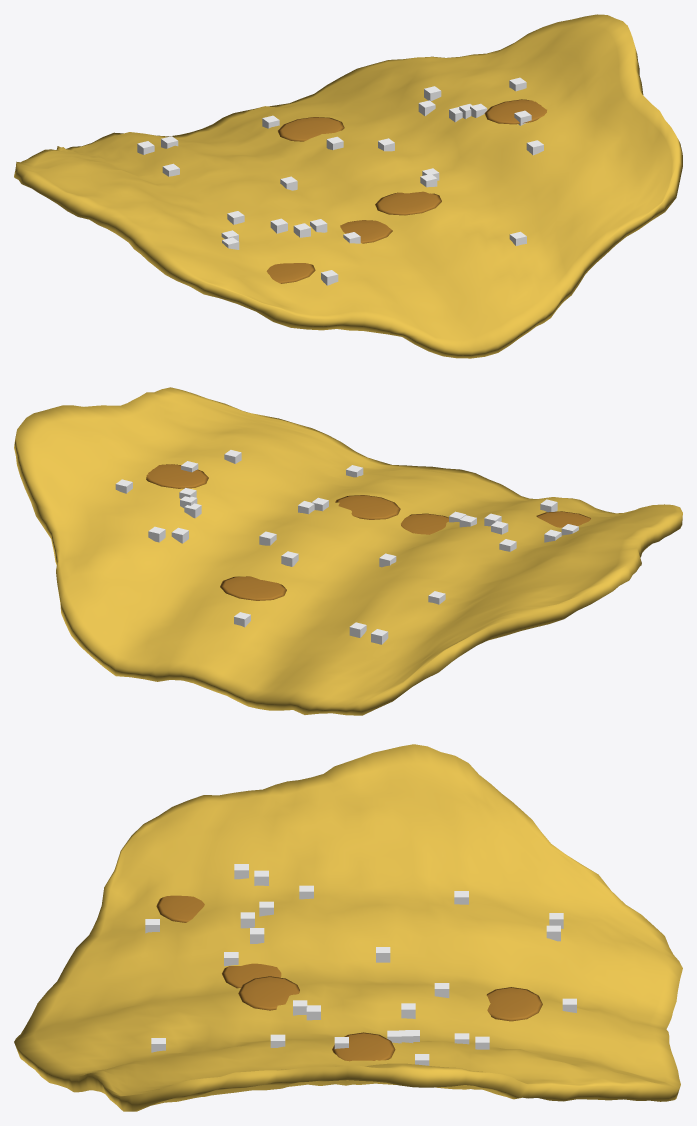
Rendered from items-chip.glb.
The picture shows the model from 3 angles, top to bottom: view 1: azimuth 30°, elevation 25°; view 2: azimuth 150°, elevation 25°; view 3: azimuth 270°, elevation 25°; orthographic projection. The views are drawn at different scales.
Visible parts, largest first — view 1: Chip__Chip, Chip__BurntSpots, Chip__Salt; view 2: Chip__Chip, Chip__BurntSpots, Chip__Salt; view 3: Chip__Chip, Chip__BurntSpots, Chip__Salt.
Boxes of the visible parts, bbox=[...] form: Chip__Chip: bbox=[14, 14, 682, 358]; Chip__BurntSpots: bbox=[266, 99, 546, 283]; Chip__Salt: bbox=[137, 77, 543, 285]; Chip__Chip: bbox=[14, 387, 682, 715]; Chip__BurntSpots: bbox=[146, 464, 590, 600]; Chip__Salt: bbox=[115, 450, 578, 644]; Chip__Chip: bbox=[14, 744, 682, 1111]; Chip__BurntSpots: bbox=[156, 895, 542, 1061]; Chip__Salt: bbox=[145, 864, 576, 1065].
Bounding box in the file's own units: 8.84 × 1.88 × 7.39.
